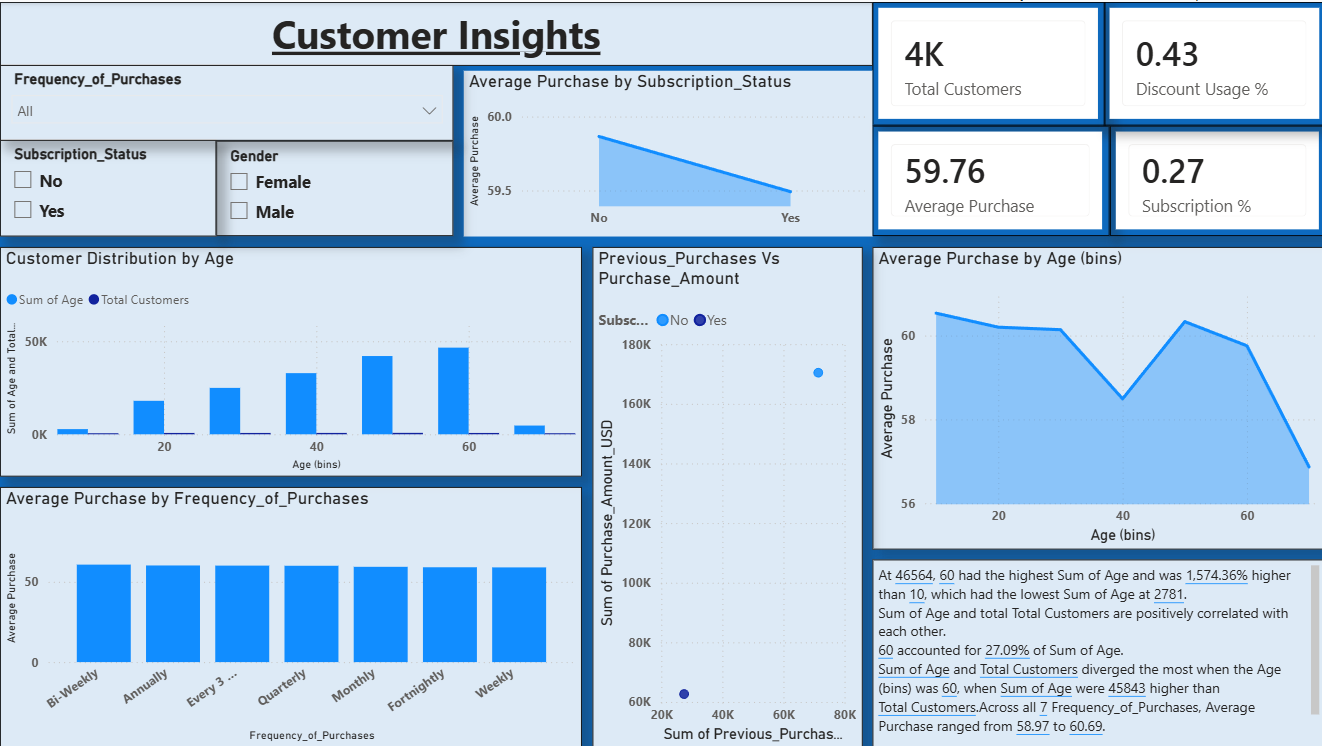

The page's visual inventory and layout, read from the dashboard file:
{"tool":"powerbi","page":{"name":"Customer Insights","canvas":[1280,720],"ordinal":4},"visuals":[{"type":"cardVisual","fields":{"Data":["shopping_behavior_Cleaned.Total Customers"]},"box":[842.4,0,224.6,119.5],"z":0},{"type":"cardVisual","fields":{"Data":["shopping_behavior_Cleaned.Average Purchase"]},"box":[842.4,119.5,229,106.6],"z":1000},{"type":"cardVisual","fields":{"Data":["shopping_behavior_Cleaned.Subscription %"]},"box":[1071.4,119.5,208.8,106.6],"z":2000},{"type":"cardVisual","fields":{"Data":["shopping_behavior_Cleaned.Discount Usage %"]},"box":[1065.6,0,214.6,119.5],"z":3000},{"type":"clusteredColumnChart","title":"Customer Distribution by Age","fields":{"Category":["shopping_behavior_Cleaned.Age (bins)"],"Y":["Sum(shopping_behavior_Cleaned.Age)","shopping_behavior_Cleaned.Total Customers"]},"box":[0,236.2,561.6,221.8],"z":4000},{"type":"areaChart","fields":{"Category":["shopping_behavior_Cleaned.Age (bins)"],"Y":["shopping_behavior_Cleaned.Average Purchase"]},"box":[842.4,236.2,437.8,292.3],"z":5000},{"type":"clusteredColumnChart","fields":{"Category":["shopping_behavior_Cleaned.Frequency_of_Purchases"],"Y":["shopping_behavior_Cleaned.Average Purchase"]},"box":[0,468,561.6,252],"z":6000},{"type":"areaChart","fields":{"Category":["shopping_behavior_Cleaned.Subscription_Status"],"Y":["shopping_behavior_Cleaned.Average Purchase"]},"box":[447.8,66.2,394.6,159.8],"z":7000},{"type":"scatterChart","title":"Previous_Purchases Vs Purchase_Amount","fields":{"Series":["shopping_behavior_Cleaned.Subscription_Status"],"X":["Sum(shopping_behavior_Cleaned.Previous_Purchases)"],"Y":["Sum(shopping_behavior_Cleaned.Purchase_Amount_USD)"]},"box":[571.7,236.2,260.6,483.8],"z":8000},{"type":"slicer","fields":{"Values":["shopping_behavior_Cleaned.Gender"]},"box":[208.8,133.9,229,92.2],"z":9000},{"type":"slicer","fields":{"Values":["shopping_behavior_Cleaned.Subscription_Status"]},"box":[0,132.5,208.8,93.6],"z":10000},{"type":"slicer","fields":{"Values":["shopping_behavior_Cleaned.Frequency_of_Purchases"]},"box":[0,60.5,437.8,73.4],"z":11000},{"type":"textbox","box":[0,0,842.4,61.9],"z":11001},{"type":"textbox","box":[842.4,538.6,437.8,181.4],"z":11002}]}

Visuals, with their boxes in screenshot pixels (x1, y1, x2, y2), scaled from the page's 1280x720 canvas onto the 1322x746 screenshot:
cardVisual - shopping_behavior_Cleaned.Total Customers: box(870, 0, 1102, 124)
cardVisual - shopping_behavior_Cleaned.Average Purchase: box(870, 124, 1107, 234)
cardVisual - shopping_behavior_Cleaned.Subscription %: box(1107, 124, 1321, 234)
cardVisual - shopping_behavior_Cleaned.Discount Usage %: box(1101, 0, 1321, 124)
"Customer Distribution by Age" clusteredColumnChart: box(0, 245, 580, 475)
areaChart - shopping_behavior_Cleaned.Age (bins) x shopping_behavior_Cleaned.Average Purchase: box(870, 245, 1321, 548)
clusteredColumnChart - shopping_behavior_Cleaned.Frequency_of_Purchases x shopping_behavior_Cleaned.Average Purchase: box(0, 485, 580, 745)
areaChart - shopping_behavior_Cleaned.Subscription_Status x shopping_behavior_Cleaned.Average Purchase: box(462, 69, 870, 234)
"Previous_Purchases Vs Purchase_Amount" scatterChart: box(590, 245, 860, 745)
slicer - shopping_behavior_Cleaned.Gender: box(216, 139, 452, 234)
slicer - shopping_behavior_Cleaned.Subscription_Status: box(0, 137, 216, 234)
slicer - shopping_behavior_Cleaned.Frequency_of_Purchases: box(0, 63, 452, 139)
textbox: box(0, 0, 870, 64)
textbox: box(870, 558, 1321, 745)
